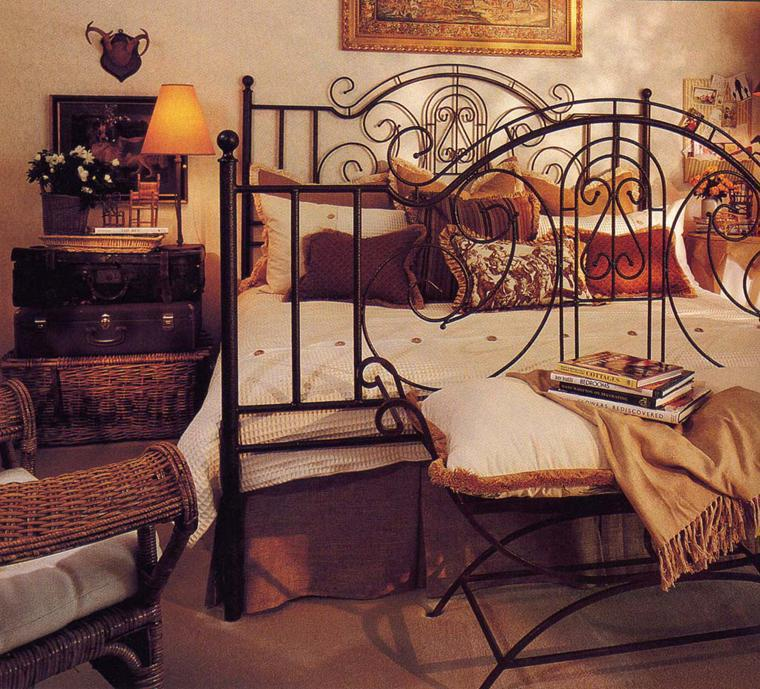Cama: (229, 81, 743, 614)
